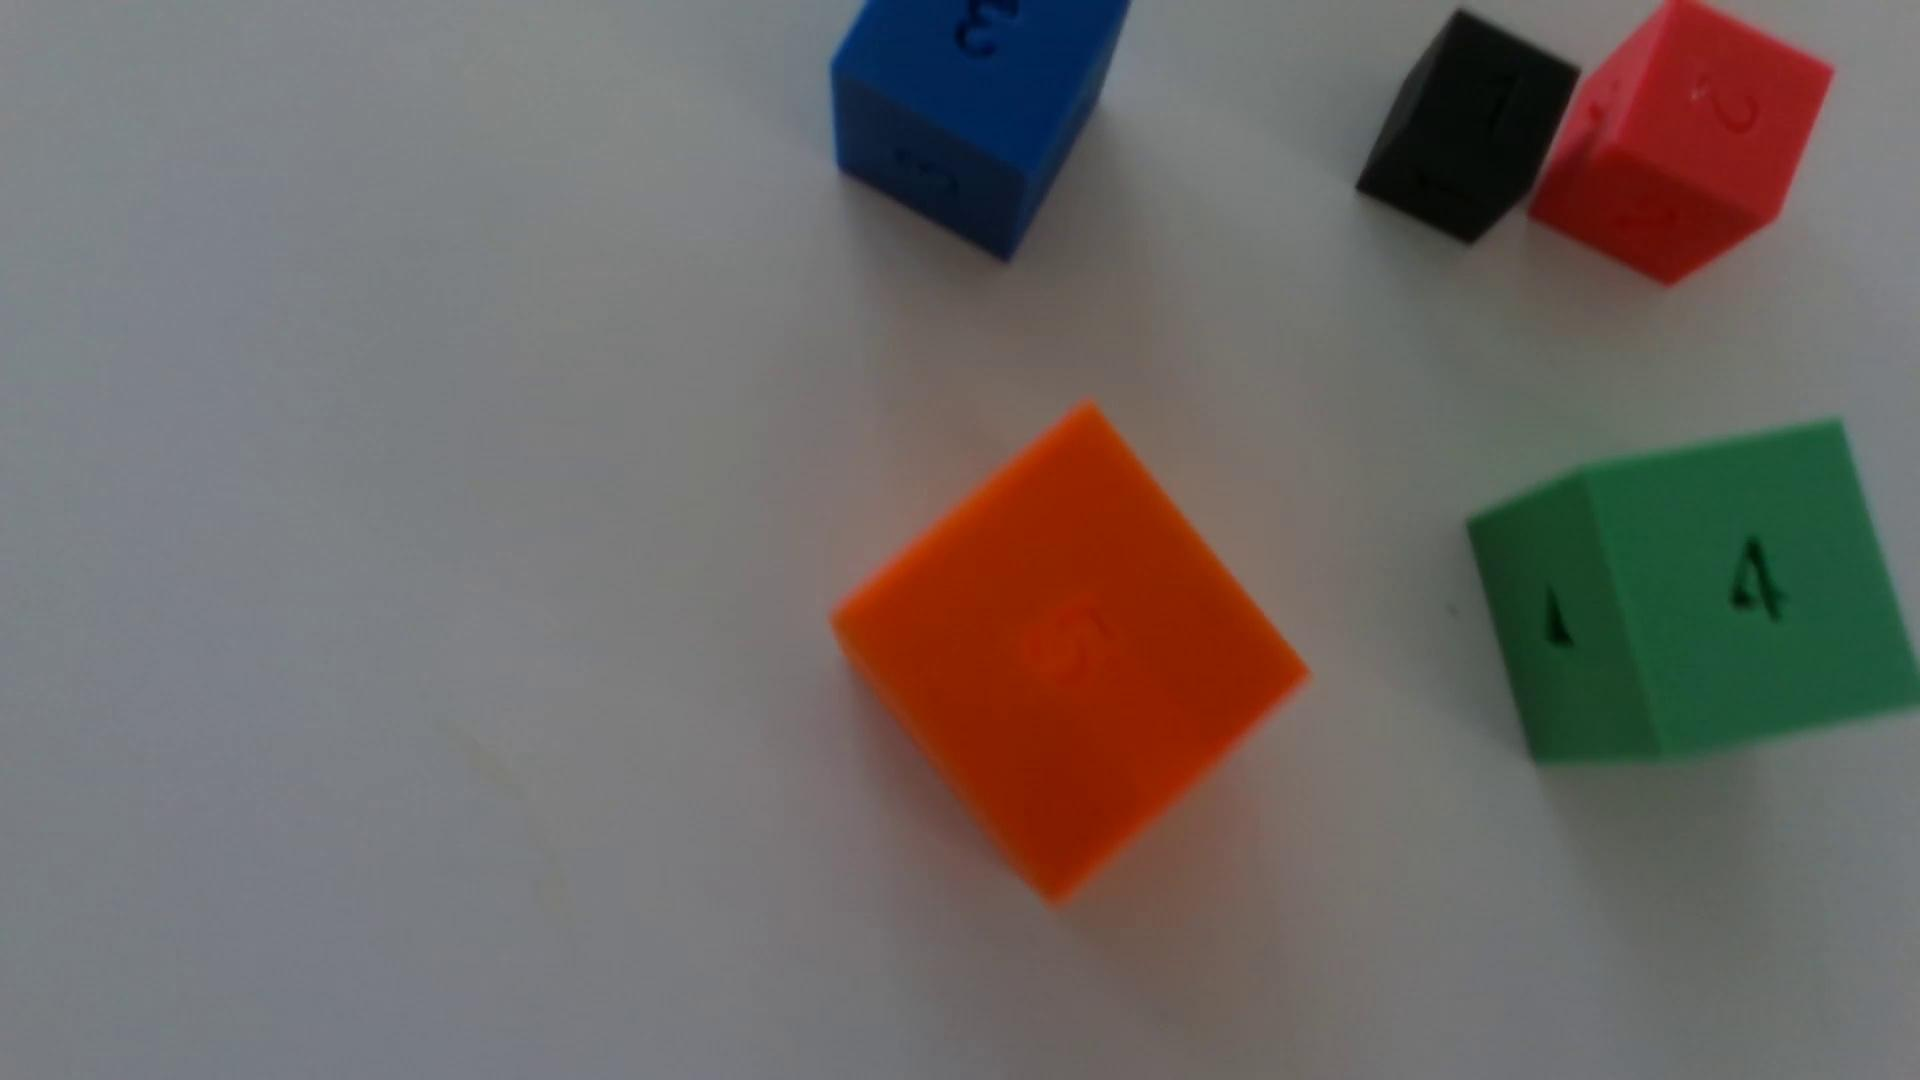black: (1356, 11, 1580, 245)
blue: (829, 0, 1130, 261)
green: (1468, 421, 1920, 765)
orange: (833, 406, 1308, 901)
red: (1528, 0, 1833, 286)
